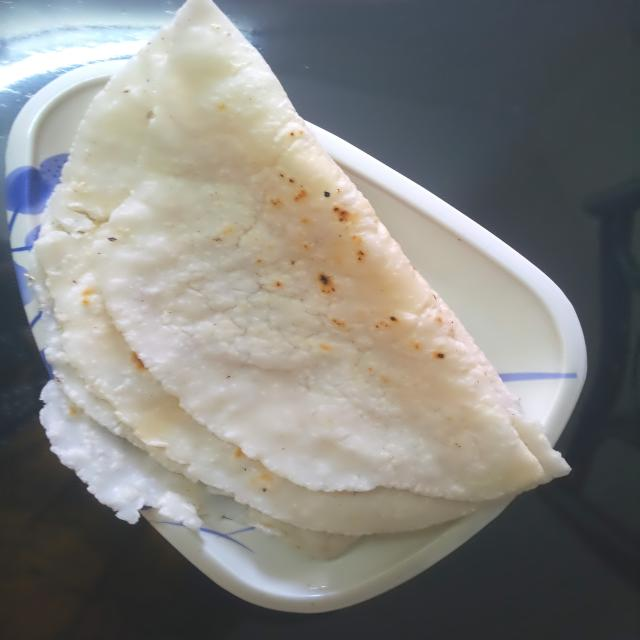RICE BHAKRI: (37, 0, 568, 535)
